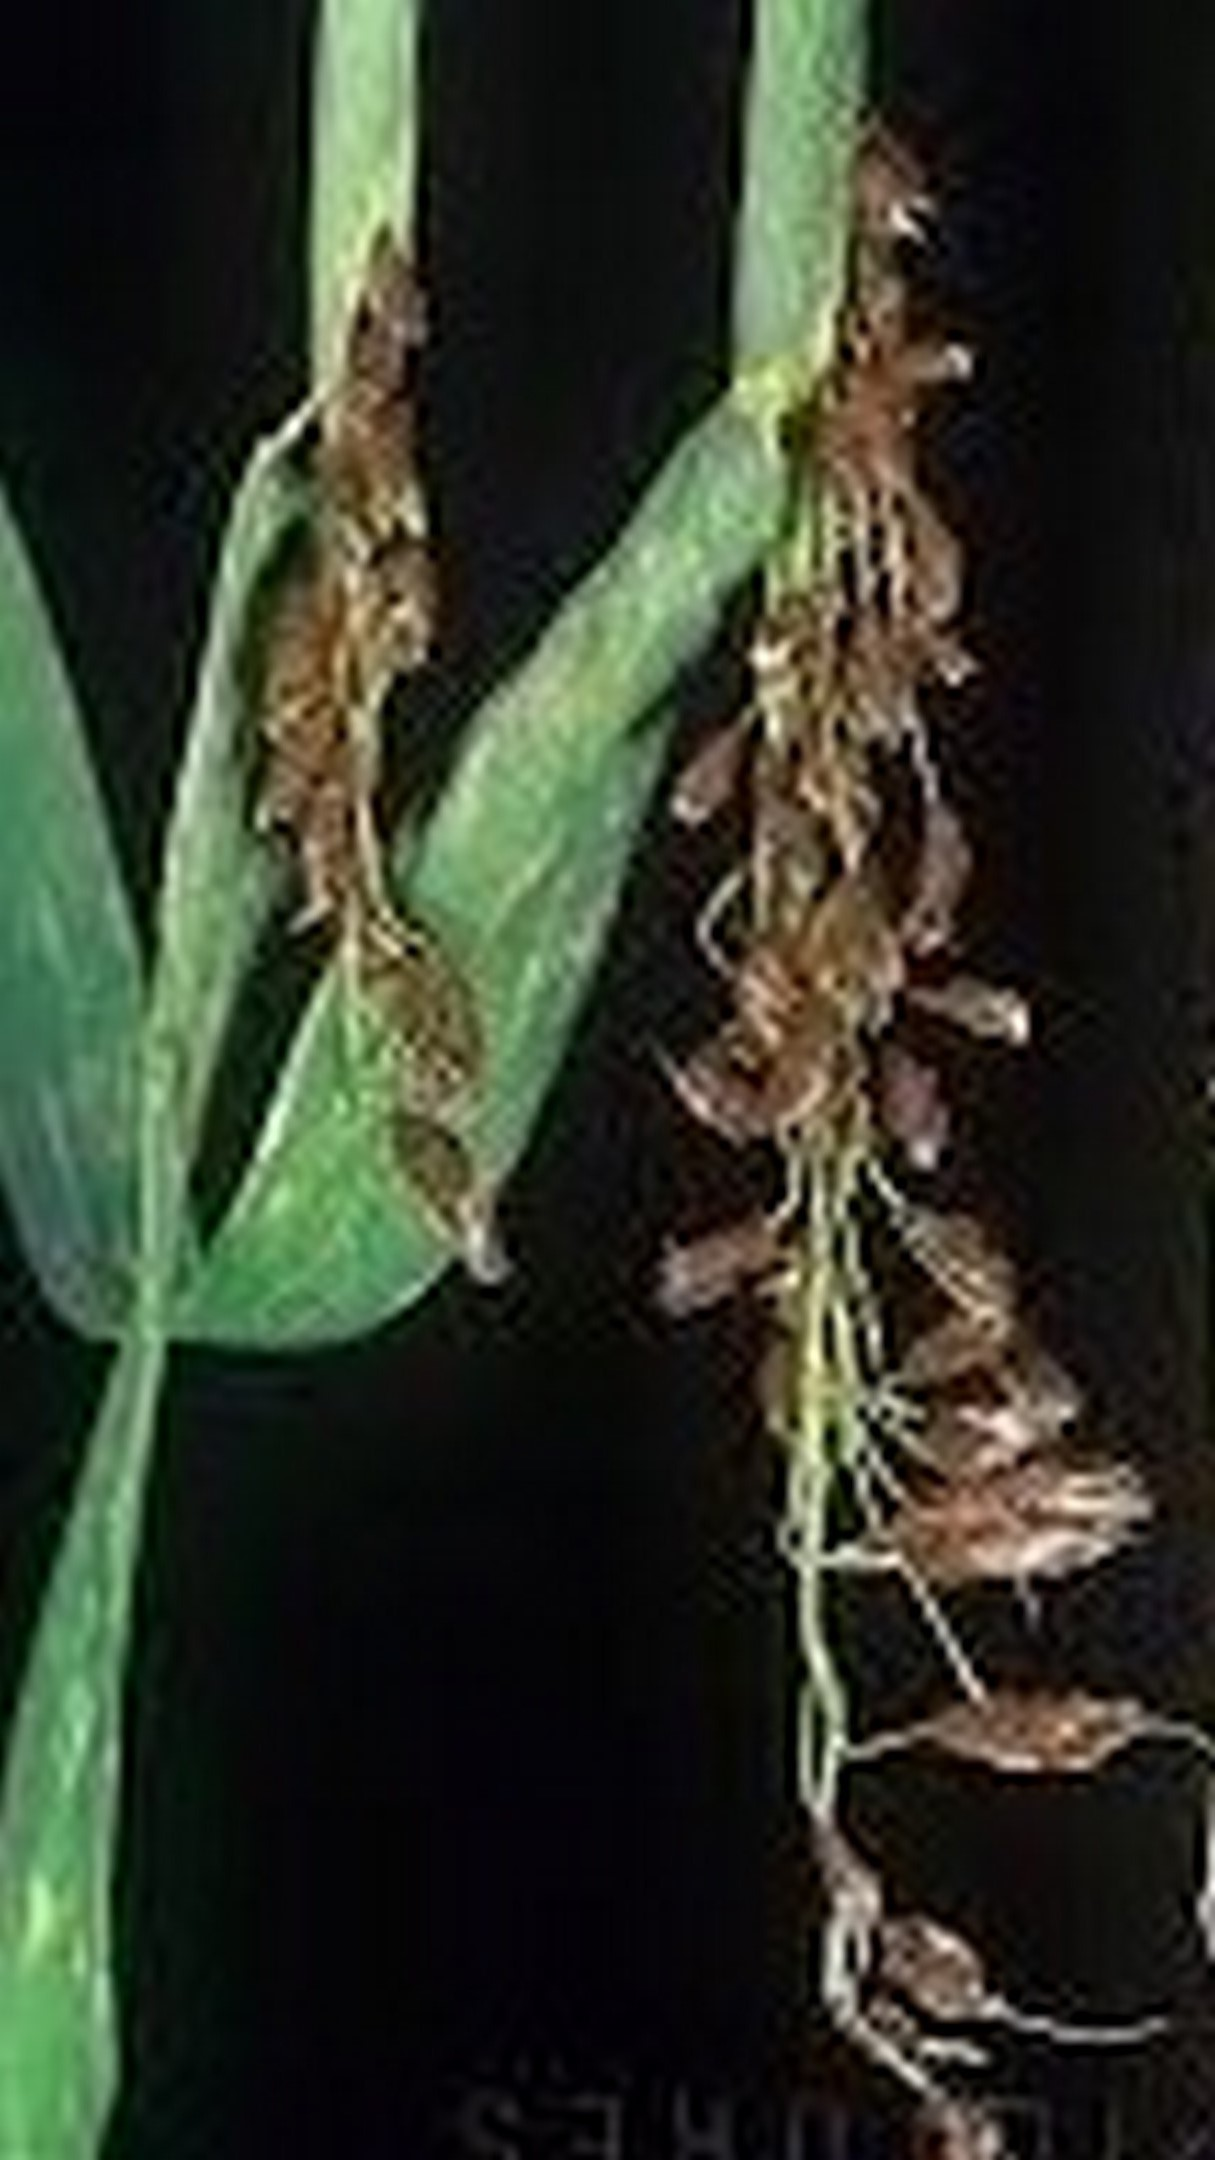Wheat Loose Smut: (251, 203, 1185, 2084)
